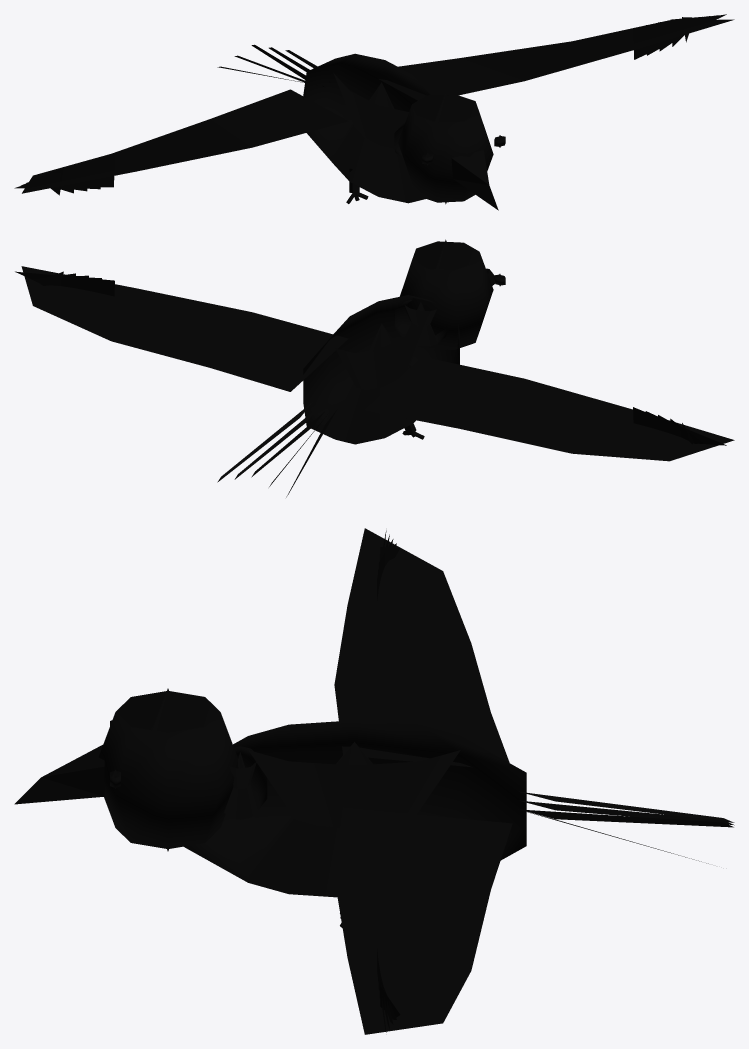
The model's file is gliding.glb.
3 renders of one model, top to bottom at view 1: azimuth 30°, elevation 25°; view 2: azimuth 150°, elevation 25°; view 3: azimuth 270°, elevation 25°, orthographic. The views are drawn at different scales.
Visible parts, largest first — view 1: RaptorBody; view 2: RaptorBody; view 3: RaptorBody.
Boxes of the visible parts, x1=… form: RaptorBody: x1=14, y1=14, x2=734, y2=210; RaptorBody: x1=15, y1=239, x2=734, y2=497; RaptorBody: x1=14, y1=528, x2=734, y2=1034.
Size of the model in its own units: 1.99 by 0.3983 by 1.19.
7 materials, 7 textured.
